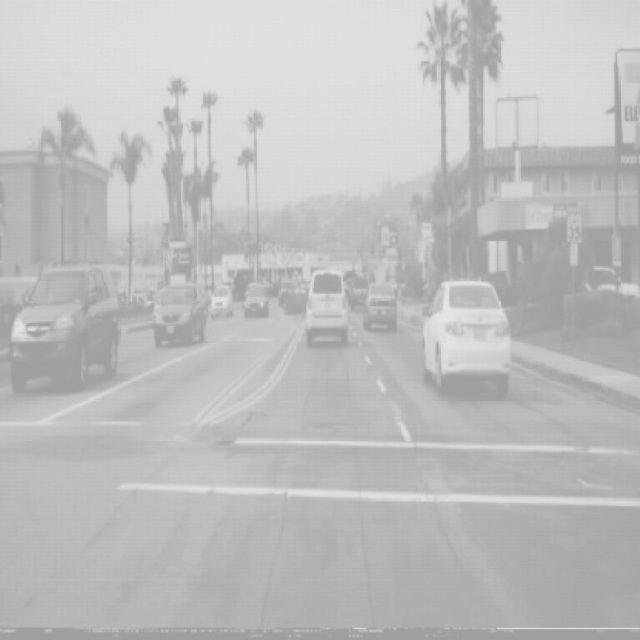speedLimit35: (566, 203, 582, 244)
